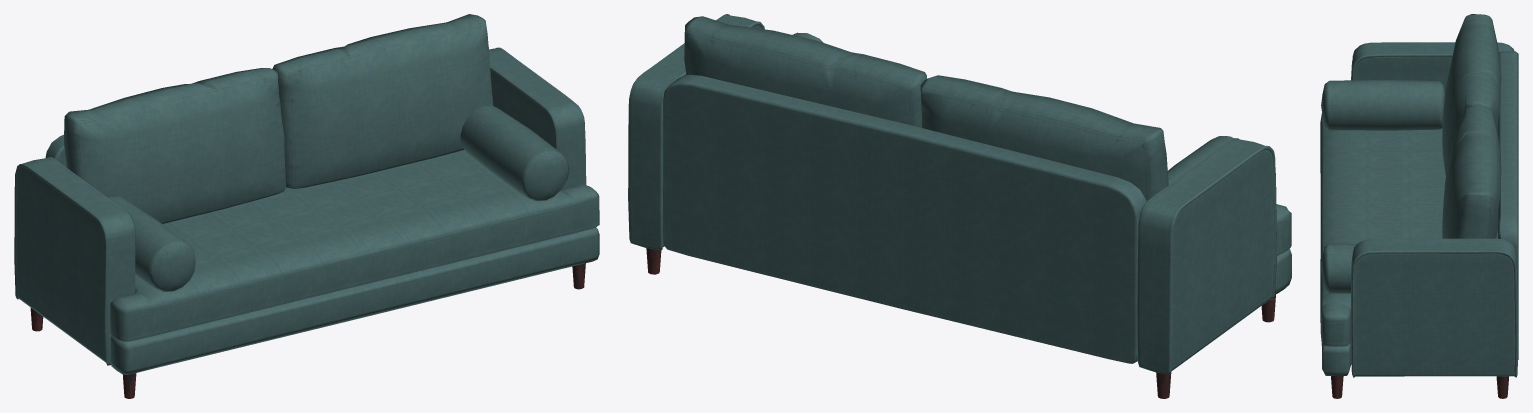
File: sillon_perry.glb
The picture shows the model from 3 angles, left to right: view 1: azimuth 30°, elevation 25°; view 2: azimuth 150°, elevation 25°; view 3: azimuth 270°, elevation 25°; orthographic projection. The views are drawn at different scales.
Visible parts, largest first — view 1: sofa; view 2: sofa; view 3: sofa.
Part boxes in pixels (bbox=[...]): sofa: bbox=[14, 14, 599, 398]; sofa: bbox=[628, 14, 1291, 398]; sofa: bbox=[1320, 14, 1518, 398].
Size of the model in its own units: 2.53 by 1.1 by 1.01.
1 material, 1 textured.
